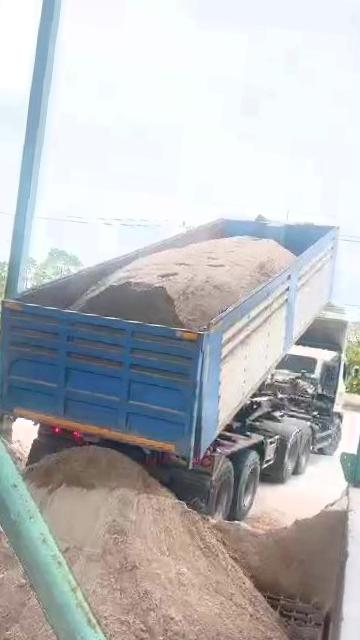sand: (26, 446, 298, 640), (71, 236, 294, 330), (216, 501, 346, 610), (0, 496, 81, 640), (3, 440, 26, 468)
